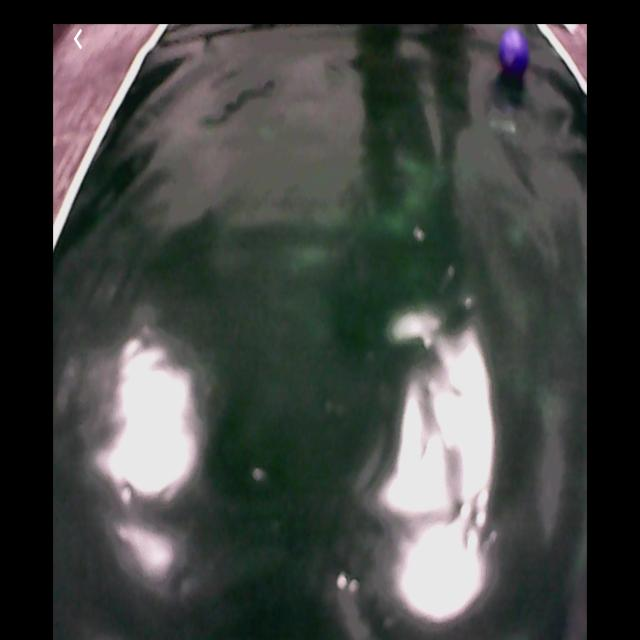ball: (502, 30, 532, 83)
